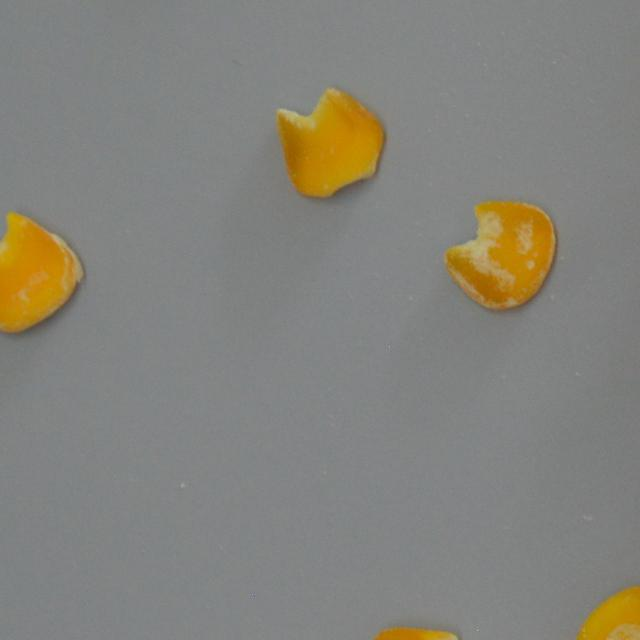dañado: (437, 197, 562, 316), (272, 84, 390, 204), (356, 620, 479, 640)
pelicula: (0, 208, 90, 342), (566, 581, 640, 640)
